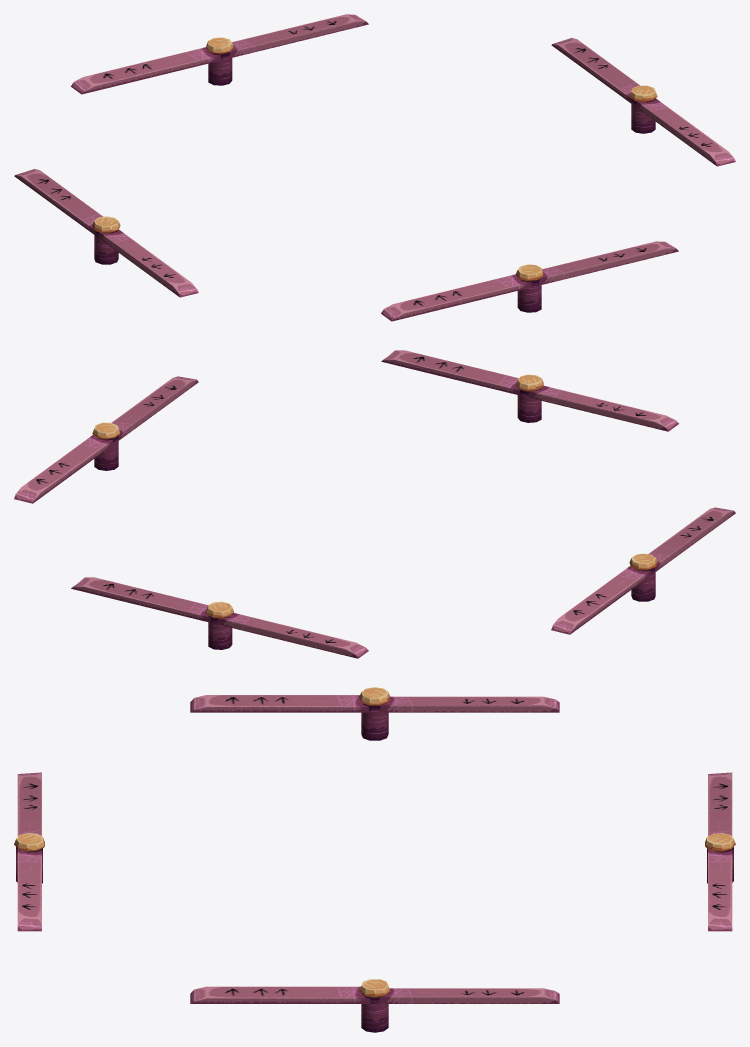
The model's file is Drone Propellers.fbx.
The picture shows the model from 3 angles, top to bottom: view 1: azimuth 30°, elevation 25°; view 2: azimuth 150°, elevation 25°; view 3: azimuth 270°, elevation 25°; orthographic projection. The views are drawn at different scales.
Visible parts, largest first — view 1: Object001; view 2: Object001; view 3: Object001.
Part boxes in pixels (box(x1,y1,x2,y2)): Object001: box(14, 14, 735, 321); Object001: box(14, 350, 735, 658); Object001: box(14, 687, 735, 1032).
Bounding box in the file's own units: 116 × 7.51 × 116.
1 material, 1 textured.
